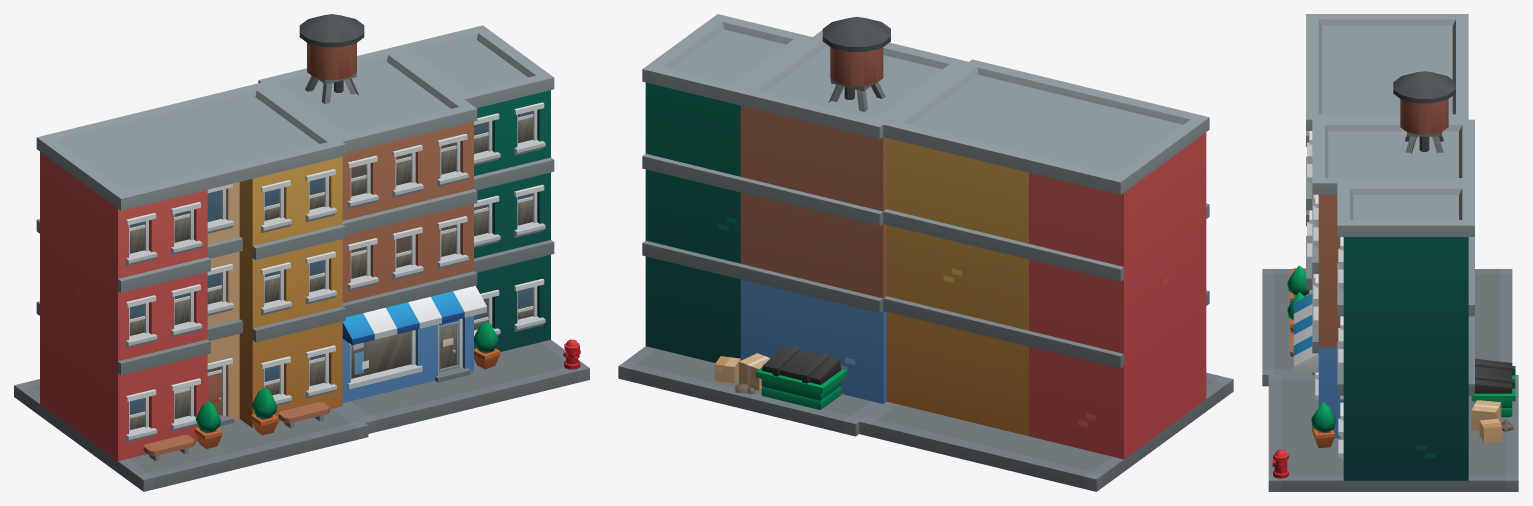
Rendered from building_4_2.glb.
3 renders of one model, left to right at view 1: azimuth 30°, elevation 25°; view 2: azimuth 150°, elevation 25°; view 3: azimuth 270°, elevation 25°, orthographic. The views are drawn at different scales.
Parts seen in each view (by area): view 1: building_G; view 2: building_G; view 3: building_G.
Boxes of the visible parts, x1,y1,x2,y2 form: building_G: [14, 14, 589, 491]; building_G: [618, 14, 1233, 491]; building_G: [1262, 14, 1518, 491].
Bounding box in the file's own units: 4.01 × 2.98 × 2.05.
Materials: 2 (2 with a texture image).
